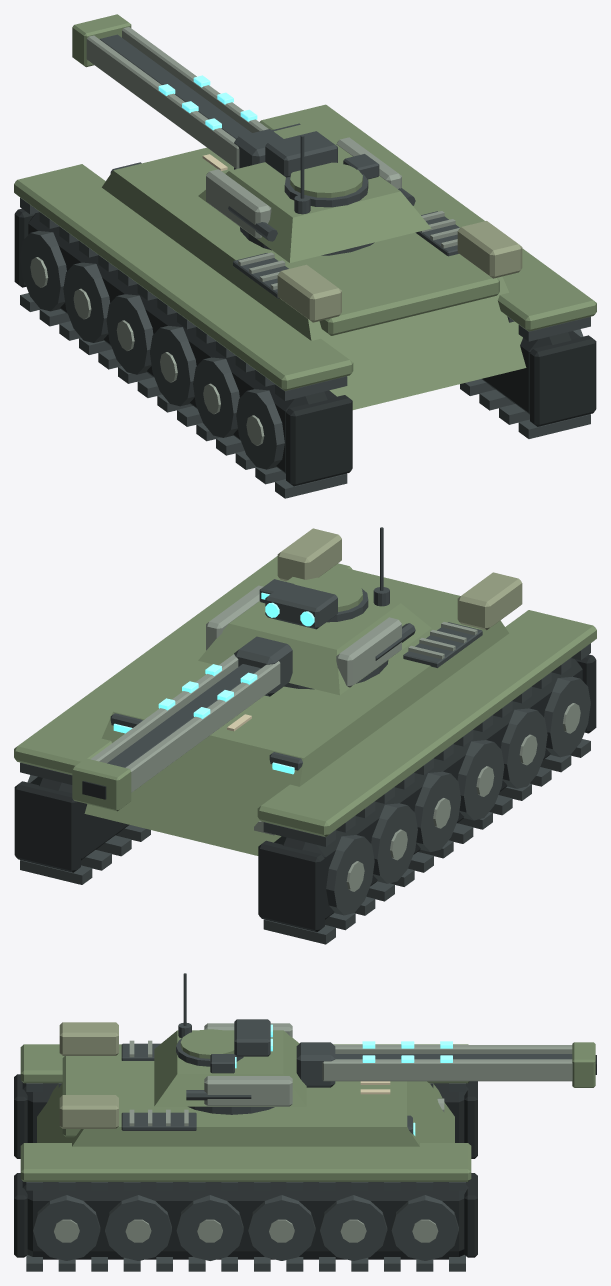
The model's file is tank_sniper_mk2.glb.
3 renders of one model, top to bottom at view 1: azimuth 30°, elevation 25°; view 2: azimuth 150°, elevation 25°; view 3: azimuth 270°, elevation 25°, orthographic. The views are drawn at different scales.
Visible parts, largest first — view 1: tank_sniper_mk2_TankPaint.005, tank_sniper_mk2_RunningGear.005, tank_sniper_mk2_TankTracks.005, tank_sniper_mk2_TankPaint.006, tank_sniper_mk2_ArmorEdges.006, tank_sniper_mk2_RunningGear.006, tank_sniper_mk2_Canvas.004, tank_sniper_mk2_ArmorEdges.005, tank_sniper_mk2_Optics.006; view 2: tank_sniper_mk2_TankPaint.005, tank_sniper_mk2_RunningGear.005, tank_sniper_mk2_TankTracks.005, tank_sniper_mk2_TankPaint.006, tank_sniper_mk2_ArmorEdges.006, tank_sniper_mk2_RunningGear.006, tank_sniper_mk2_Canvas.004, tank_sniper_mk2_ArmorEdges.005, tank_sniper_mk2_Optics.006; view 3: tank_sniper_mk2_TankPaint.005, tank_sniper_mk2_RunningGear.005, tank_sniper_mk2_TankTracks.005, tank_sniper_mk2_ArmorEdges.006, tank_sniper_mk2_TankPaint.006, tank_sniper_mk2_RunningGear.006, tank_sniper_mk2_Canvas.004, tank_sniper_mk2_ArmorEdges.005, tank_sniper_mk2_Optics.006.
Part boxes in pixels (bbox=[...]): tank_sniper_mk2_TankPaint.005: bbox=[14, 104, 596, 409]; tank_sniper_mk2_RunningGear.005: bbox=[20, 123, 590, 498]; tank_sniper_mk2_TankTracks.005: bbox=[14, 208, 596, 486]; tank_sniper_mk2_TankPaint.006: bbox=[72, 14, 431, 262]; tank_sniper_mk2_ArmorEdges.006: bbox=[86, 27, 401, 239]; tank_sniper_mk2_RunningGear.006: bbox=[99, 34, 415, 255]; tank_sniper_mk2_Canvas.004: bbox=[277, 221, 522, 322]; tank_sniper_mk2_ArmorEdges.005: bbox=[30, 211, 459, 445]; tank_sniper_mk2_Optics.006: bbox=[158, 75, 257, 130]; tank_sniper_mk2_TankPaint.005: bbox=[14, 556, 596, 855]; tank_sniper_mk2_RunningGear.005: bbox=[20, 622, 590, 944]; tank_sniper_mk2_TankTracks.005: bbox=[14, 654, 596, 931]; tank_sniper_mk2_TankPaint.006: bbox=[72, 577, 431, 811]; tank_sniper_mk2_ArmorEdges.006: bbox=[90, 585, 401, 792]; tank_sniper_mk2_RunningGear.006: bbox=[107, 527, 415, 767]; tank_sniper_mk2_Canvas.004: bbox=[277, 528, 522, 630]; tank_sniper_mk2_ArmorEdges.005: bbox=[254, 622, 580, 891]; tank_sniper_mk2_Optics.006: bbox=[158, 592, 314, 718]; tank_sniper_mk2_TankPaint.005: bbox=[20, 1044, 471, 1181]; tank_sniper_mk2_RunningGear.005: bbox=[26, 1043, 465, 1271]; tank_sniper_mk2_TankTracks.005: bbox=[14, 1074, 477, 1259]; tank_sniper_mk2_ArmorEdges.006: bbox=[204, 1023, 572, 1106]; tank_sniper_mk2_TankPaint.006: bbox=[154, 1029, 595, 1106]; tank_sniper_mk2_RunningGear.006: bbox=[176, 973, 572, 1114]; tank_sniper_mk2_Canvas.004: bbox=[59, 1022, 118, 1128]; tank_sniper_mk2_ArmorEdges.005: bbox=[53, 1040, 444, 1242]; tank_sniper_mk2_Optics.006: bbox=[235, 1024, 452, 1068].
Bounding box in the file's own units: 2.36 × 1.87 × 4.5.
